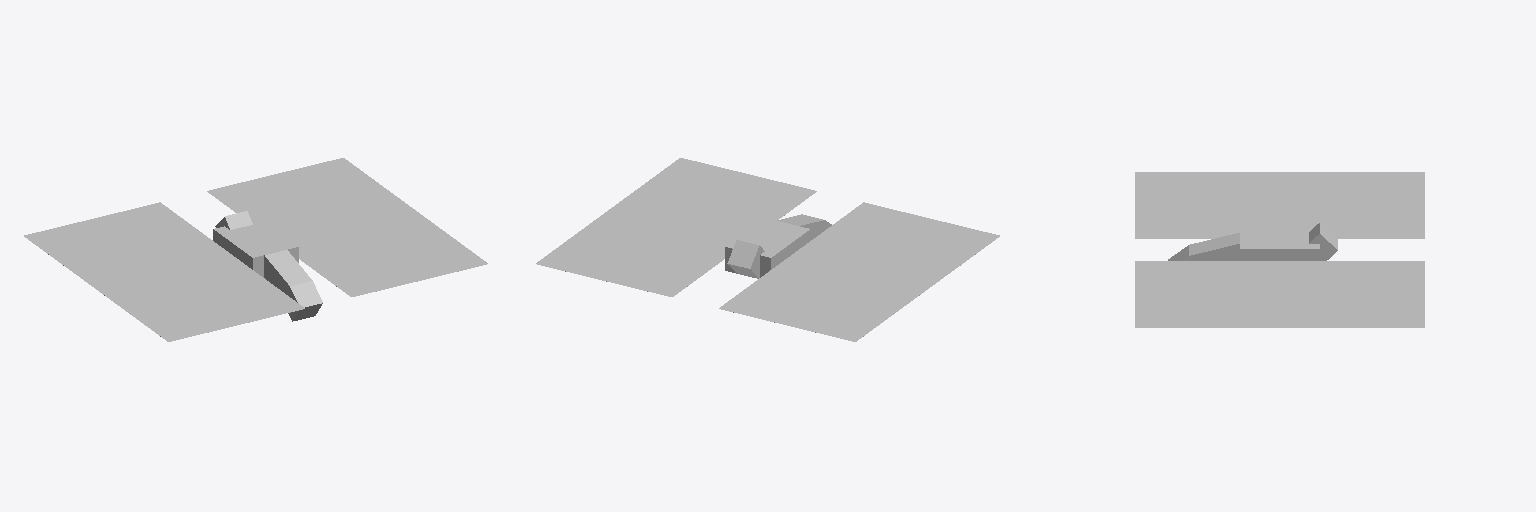
The model's file is LunarMoth.obj.
3 renders of one model, left to right at view 1: azimuth 30°, elevation 25°; view 2: azimuth 150°, elevation 25°; view 3: azimuth 270°, elevation 25°, orthographic.
Parts seen in each view (by area): view 1: cube; view 2: cube; view 3: cube.
Boxes of the visible parts, box(x1,y1,x2,y2) form: cube: box(24, 158, 487, 341); cube: box(536, 158, 999, 341); cube: box(1135, 172, 1424, 327).
Bounding box in the file's own units: 0.875 × 0.1459 × 0.6875.